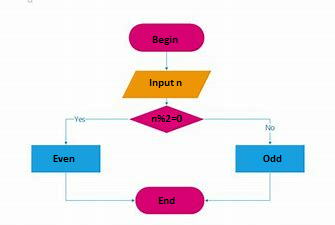arrow: (64, 171, 135, 203), (205, 172, 274, 203), (202, 117, 273, 146), (63, 117, 129, 146)
data: (121, 70, 212, 99)
decision: (129, 104, 202, 133)
process: (30, 144, 102, 173), (235, 144, 306, 173)
terminator: (128, 22, 205, 54), (134, 186, 205, 215)
text: (149, 78, 183, 89), (150, 114, 184, 124), (152, 34, 179, 46), (52, 153, 75, 164), (158, 195, 177, 206), (262, 153, 282, 163), (264, 123, 276, 133), (73, 116, 86, 123)
